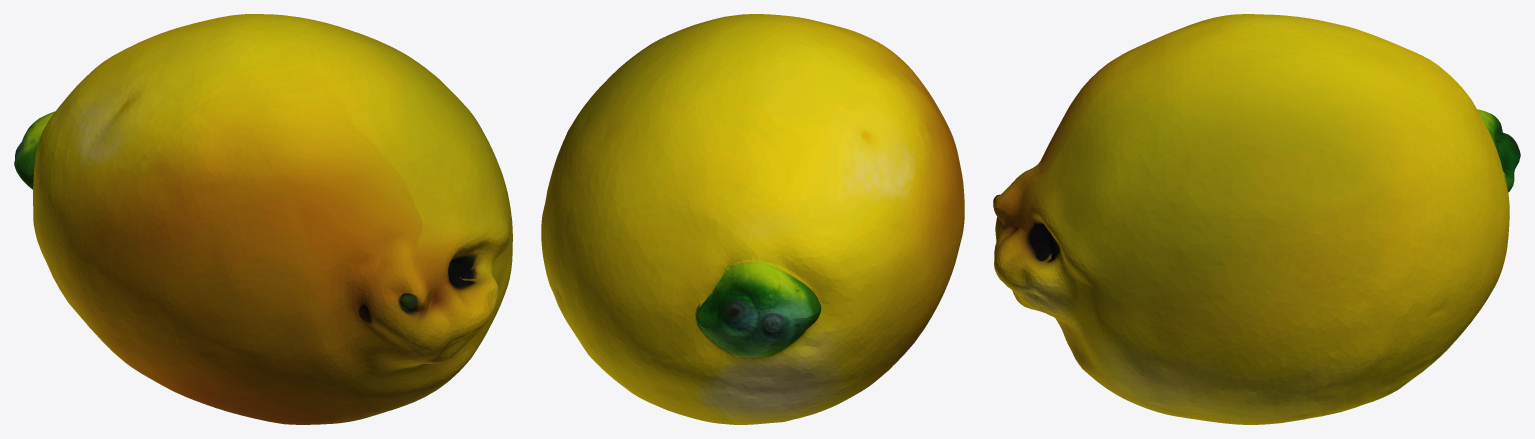
The picture shows the model from 3 angles, left to right: view 1: azimuth 30°, elevation 25°; view 2: azimuth 150°, elevation 25°; view 3: azimuth 270°, elevation 25°; orthographic projection. The views are drawn at different scales.
Visible parts, largest first — view 1: lemon.obj; view 2: lemon.obj; view 3: lemon.obj.
Part boxes in pixels (x1,y1,x2,y2): lemon.obj: (14, 14, 512, 424); lemon.obj: (541, 14, 964, 424); lemon.obj: (993, 14, 1520, 424).
Size of the model in its own units: 0.0667 by 0.0609 by 0.08.
1 material, 1 textured.
